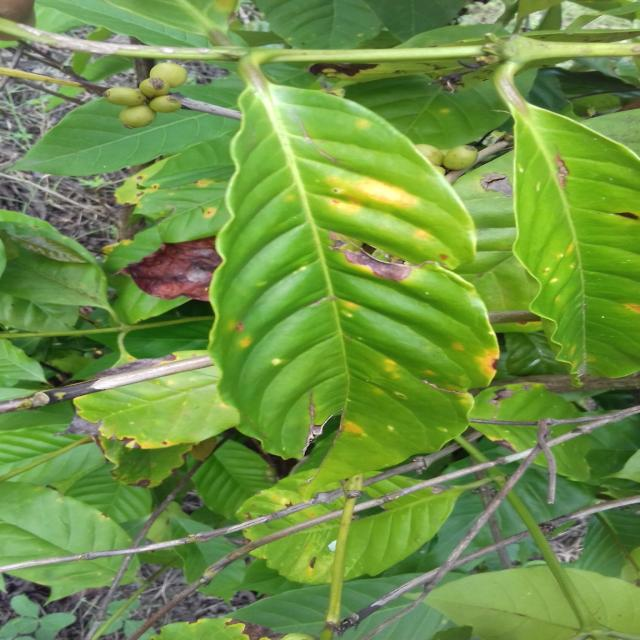Enfermedad-Roya: (209, 55, 499, 489)
